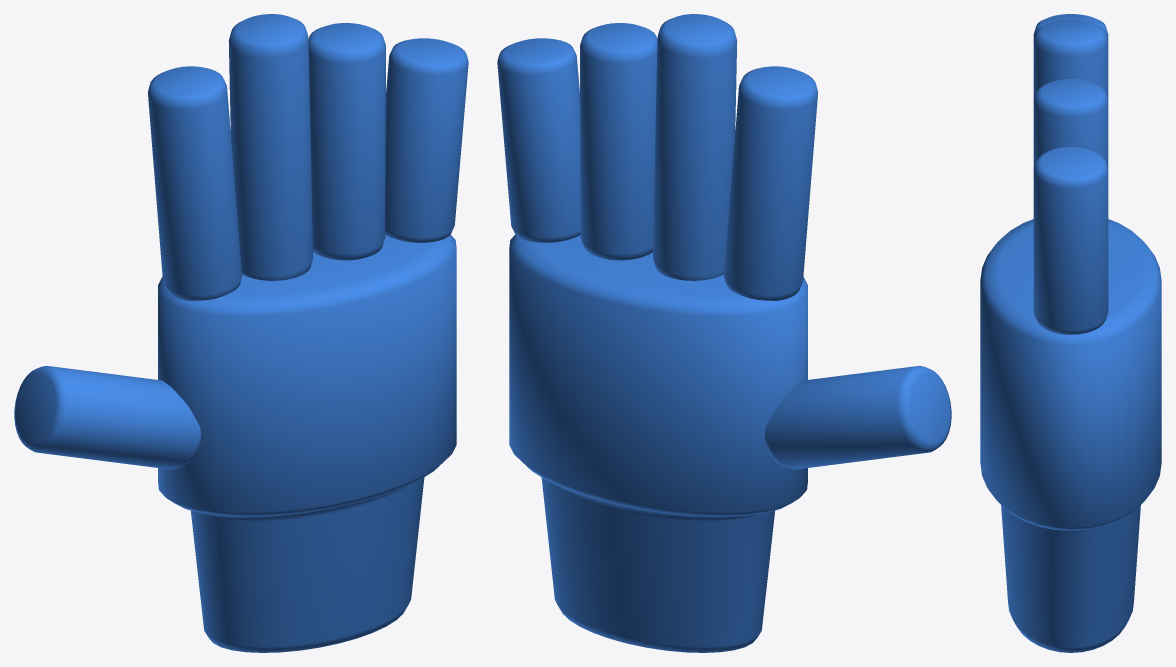
Rendered from Ragdoll_Slap_Hands.fbx.
3 views of the same model, side by side, from view 1: azimuth 30°, elevation 25°; view 2: azimuth 150°, elevation 25°; view 3: azimuth 270°, elevation 25° (orthographic). The views are drawn at different scales.
Visible parts, largest first — view 1: Cylinder.098; view 2: Cylinder.098; view 3: Cylinder.098.
Part boxes in pixels (x1,y1,x2,y2): Cylinder.098: (14, 14, 468, 652); Cylinder.098: (497, 14, 951, 652); Cylinder.098: (980, 14, 1161, 652).
Size of the model in its own units: 97.21 by 129 by 37.37.
